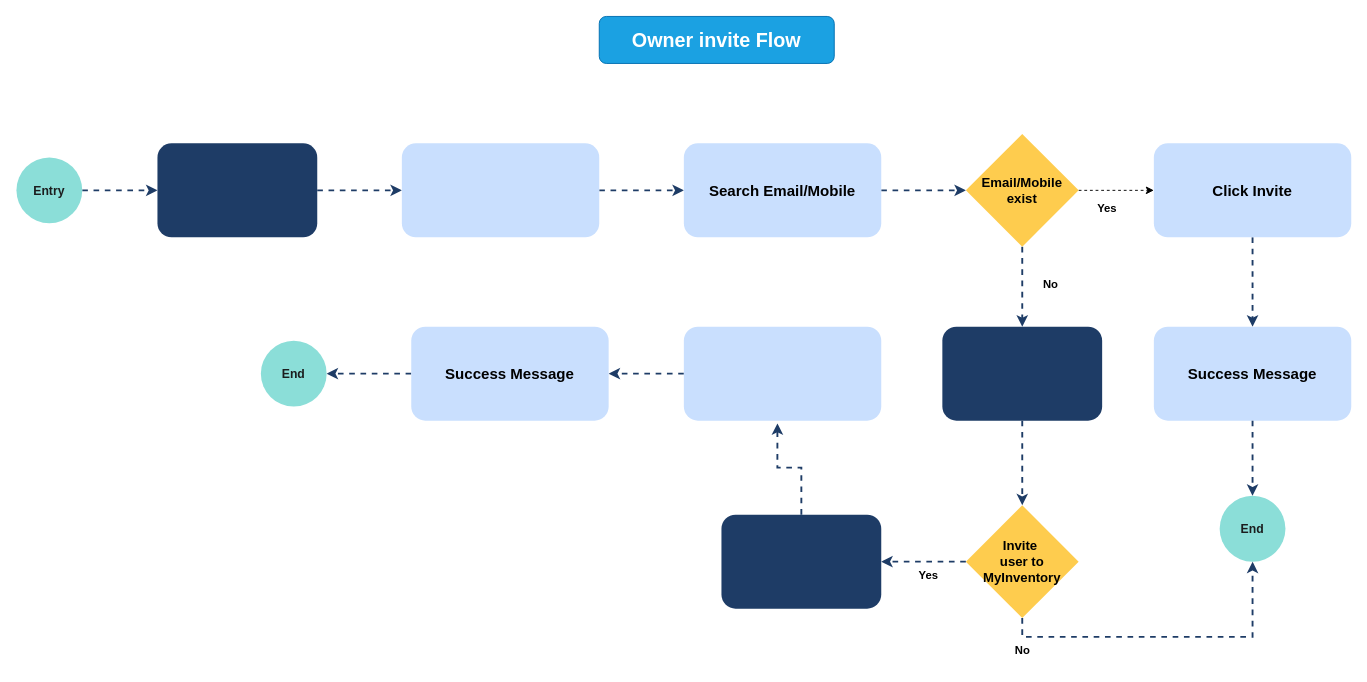
Some shapes in this 1367 by 682 pixel diagram are drawn without their labels. Each missing label, with the box of its shape:
Enter User information: (721, 514, 881, 608)
Invite Staff: (401, 143, 599, 237)
Invite User: (683, 326, 881, 420)
Option:-Enter Email/Mobile to Invite this User to MyInventory: (942, 326, 1102, 420)
Staff Managment: (157, 143, 317, 237)
